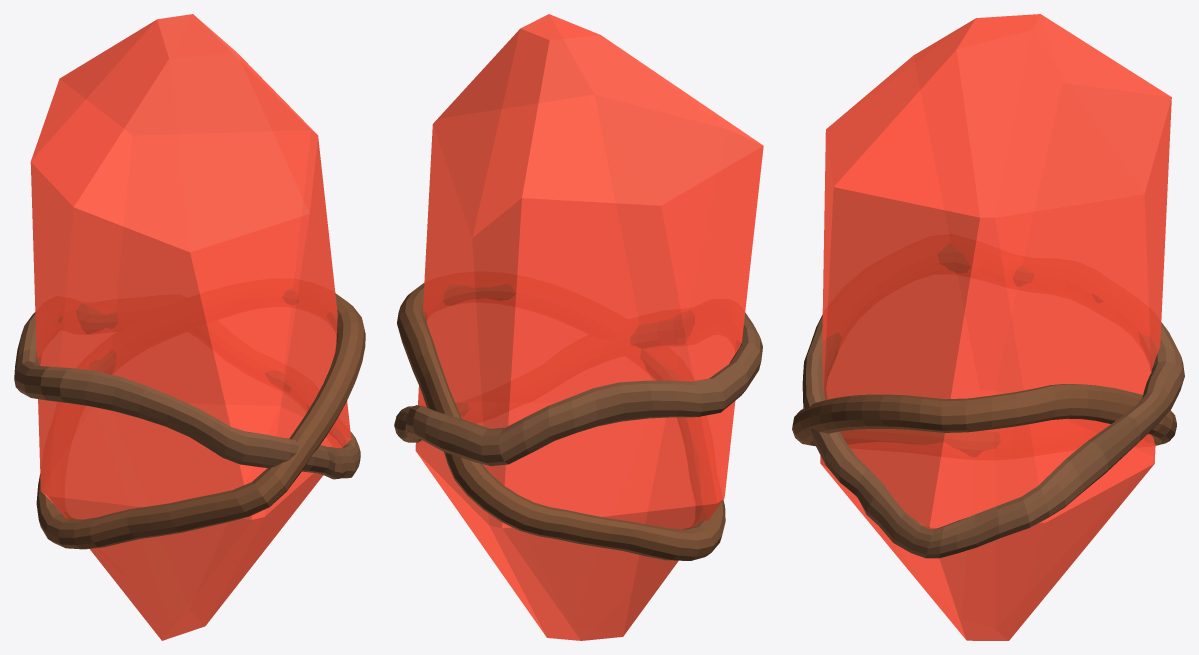
The model's file is CRYSTALwithROPE.fbx.
3 renders of one model, left to right at view 1: azimuth 30°, elevation 25°; view 2: azimuth 150°, elevation 25°; view 3: azimuth 270°, elevation 25°, orthographic. The views are drawn at different scales.
Visible parts, largest first — view 1: Cube, Torus.001, Torus; view 2: Cube, Torus, Torus.001; view 3: Cube, Torus, Torus.001.
Boxes of the visible parts, x1,y1,x2,y2 form: Cube: (30, 14, 351, 640); Torus.001: (36, 288, 365, 549); Torus: (14, 304, 360, 479); Cube: (415, 14, 763, 640); Torus: (394, 310, 762, 465); Torus.001: (397, 283, 725, 560); Cube: (820, 14, 1171, 640); Torus: (802, 243, 1184, 558); Torus.001: (792, 384, 1176, 456).
Bounding box in the file's own units: 36.9 × 64.02 × 36.65.
